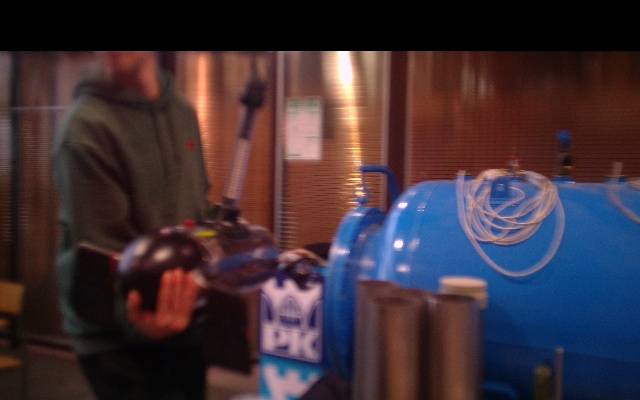black: (222, 127, 253, 207)
